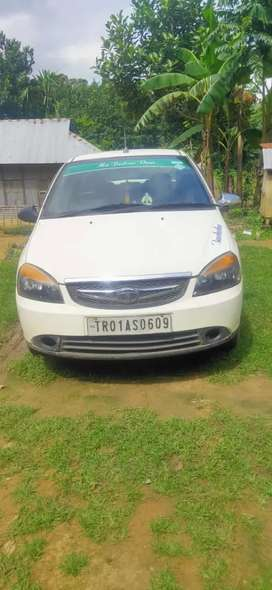TR01AS0609: (88, 313, 171, 337)
